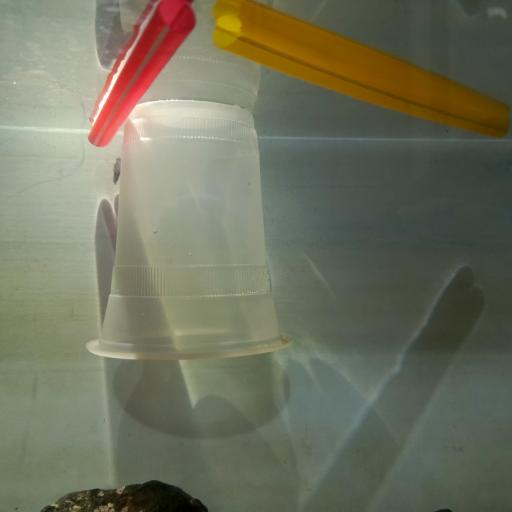plastic_cup: (83, 98, 292, 356)
plastic_straw: (215, 2, 512, 140), (87, 0, 199, 166)
